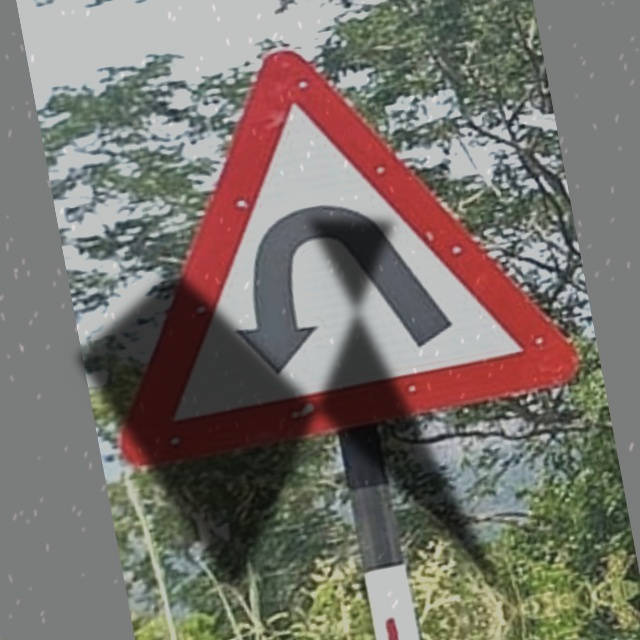Left_Hair_Pin_Bend: (64, 17, 577, 469)
